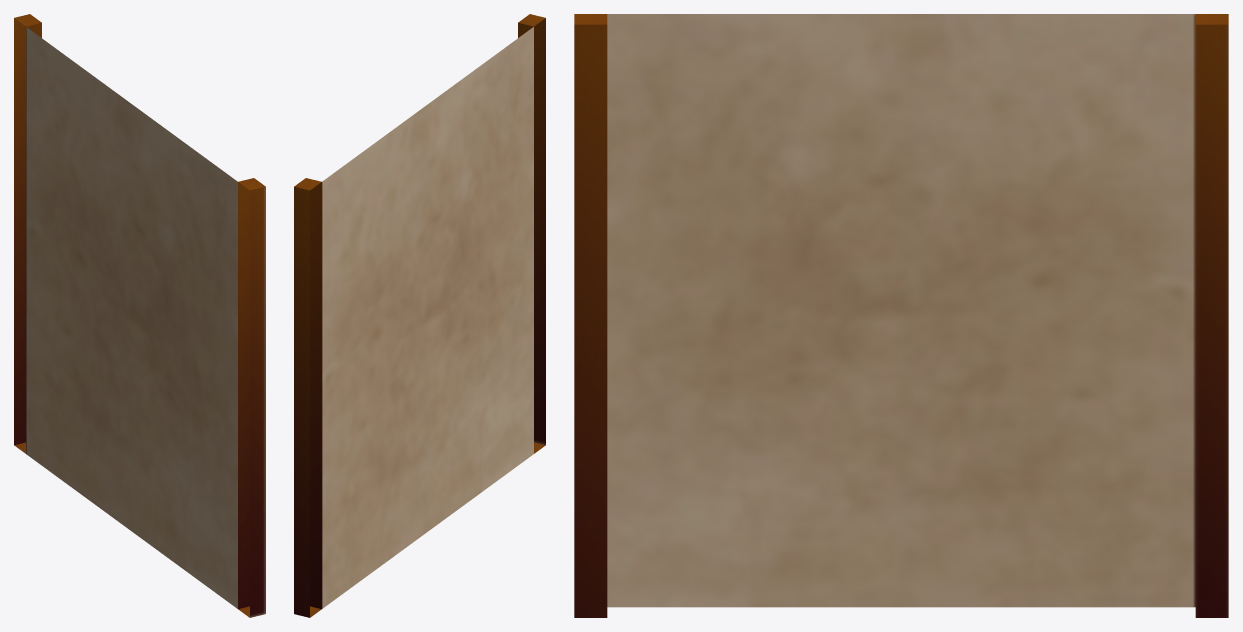
File: zid3.fbx
3 renders of one model, left to right at view 1: azimuth 30°, elevation 25°; view 2: azimuth 150°, elevation 25°; view 3: azimuth 270°, elevation 25°, orthographic. The views are drawn at different scales.
Parts seen in each view (by area): view 1: Plane.009; view 2: Plane.009; view 3: Plane.009.
Boxes of the visible parts, x1=… form: Plane.009: x1=14, y1=14, x2=265, y2=617; Plane.009: x1=294, y1=14, x2=545, y2=617; Plane.009: x1=574, y1=14, x2=1228, y2=617.
Size of the model in its own units: 100 by 3.91 by 100.
1 material, 1 textured.
